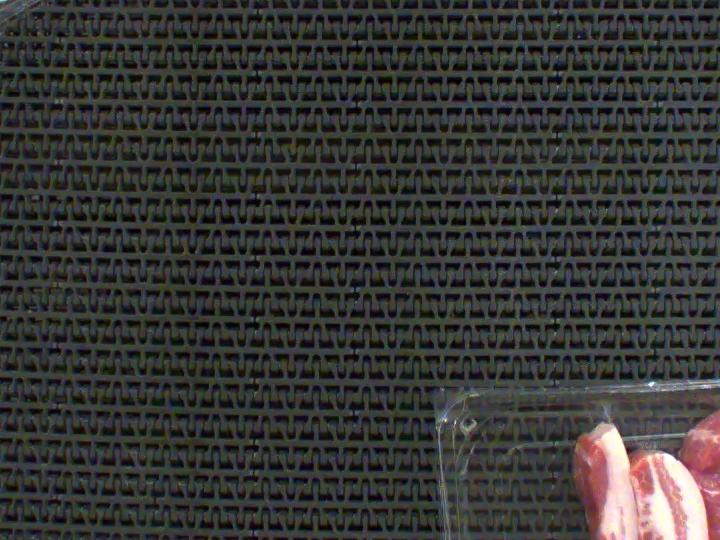packaging-error: (591, 394, 622, 431)
